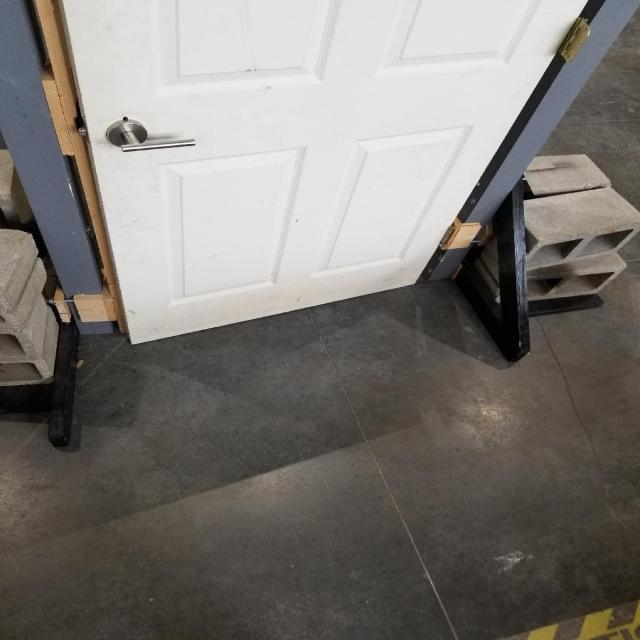door: (100, 114, 198, 154)
